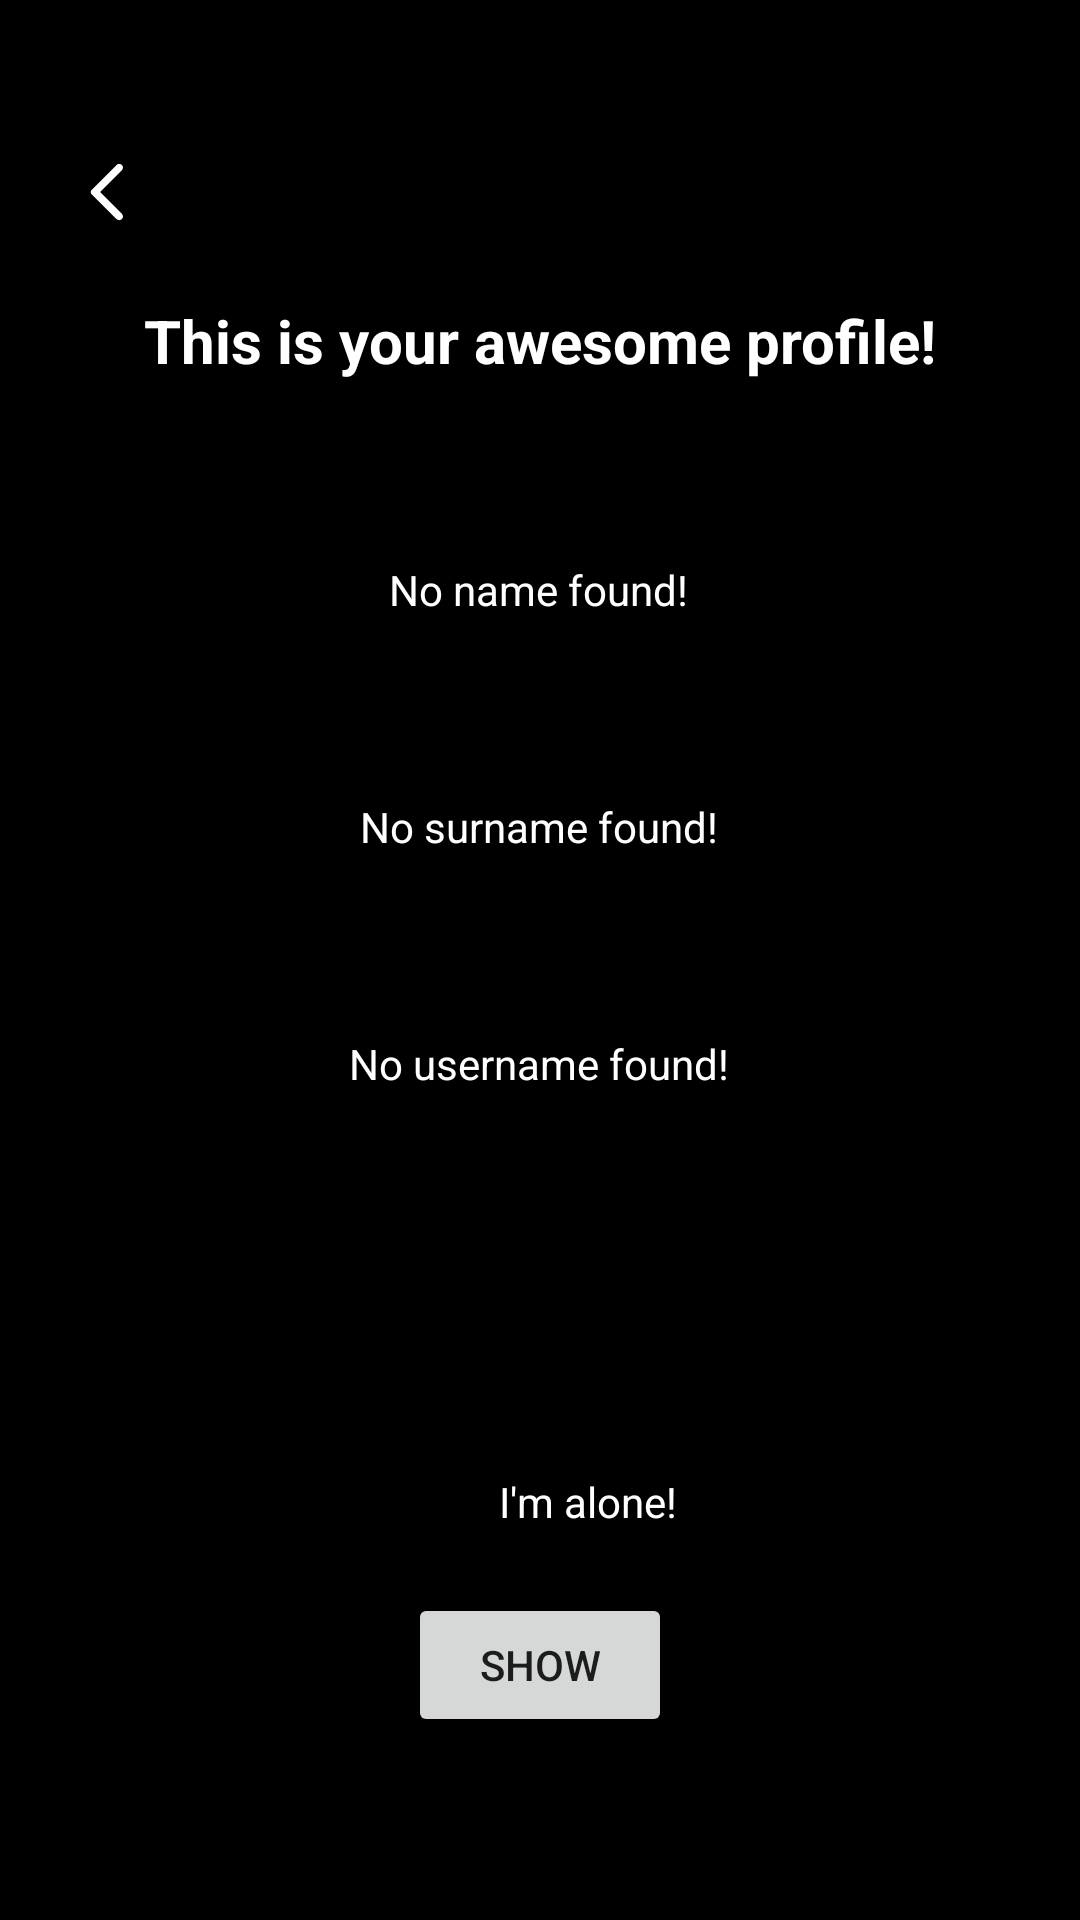

Named icons in this screenshot (1080*1920) and their bounding boxes, (x1, y1, x2, y2):
arrow back: (90, 164, 123, 221)
